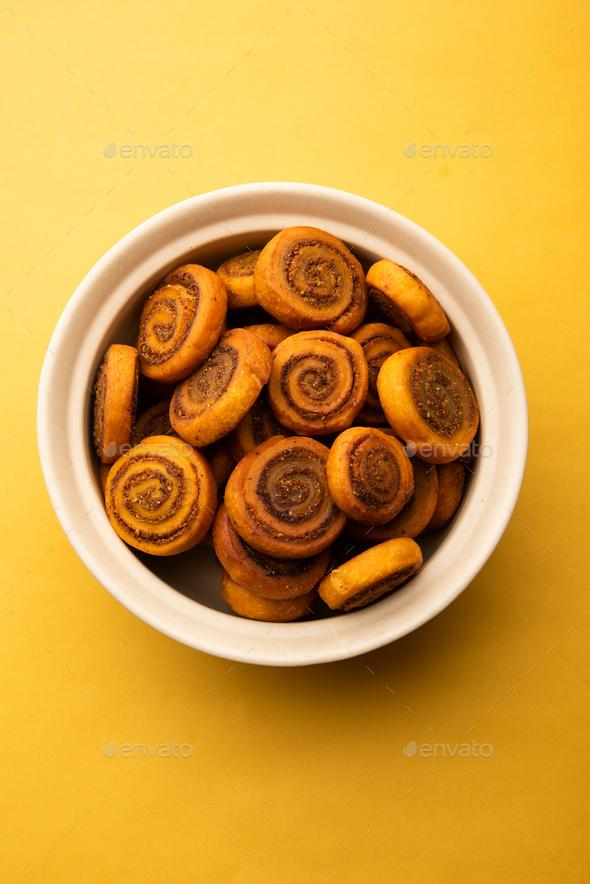bhakarwadi: (73, 227, 498, 625)
